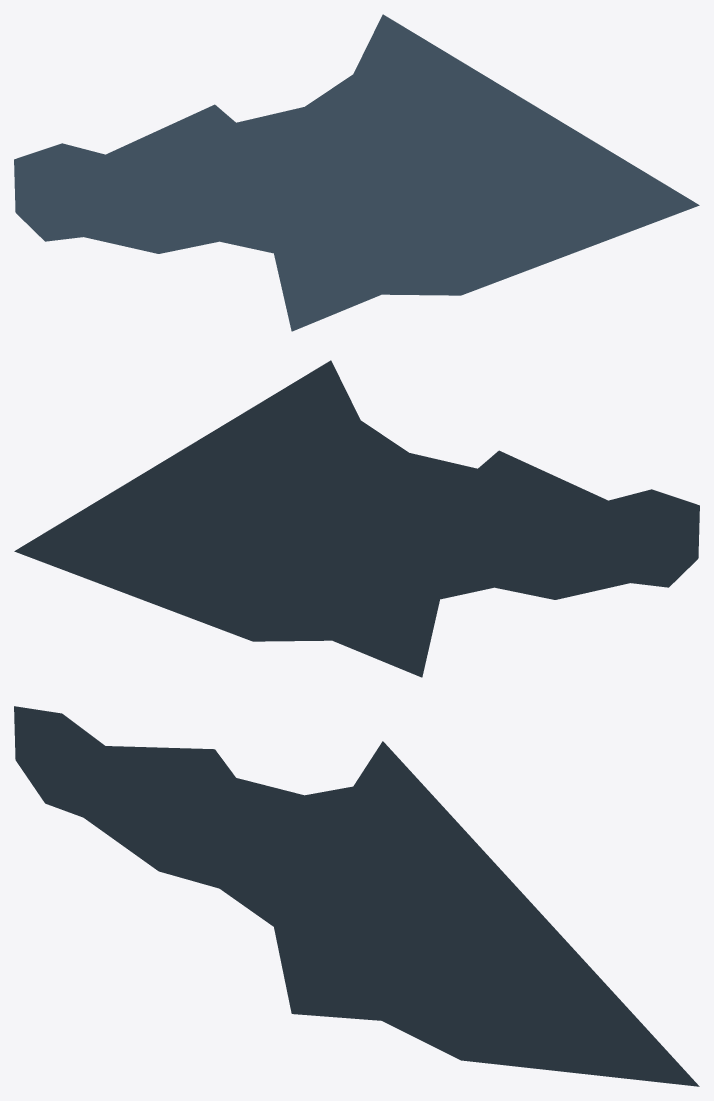
The model's file is DivingWallExteriorC.glb.
3 views of the same model, one above another, from view 1: azimuth 30°, elevation 25°; view 2: azimuth 150°, elevation 25°; view 3: azimuth 330°, elevation 25° (orthographic).
Parts seen in each view (by area): view 1: DivingWallExteriorC; view 2: DivingWallExteriorC; view 3: DivingWallExteriorC.
Part boxes in pixels (x1,y1,x2,y2): DivingWallExteriorC: [14, 14, 699, 331]; DivingWallExteriorC: [14, 360, 699, 677]; DivingWallExteriorC: [14, 706, 699, 1086].
Size of the model in its own units: 60.02 by 25.13 by 3.81e-06.
